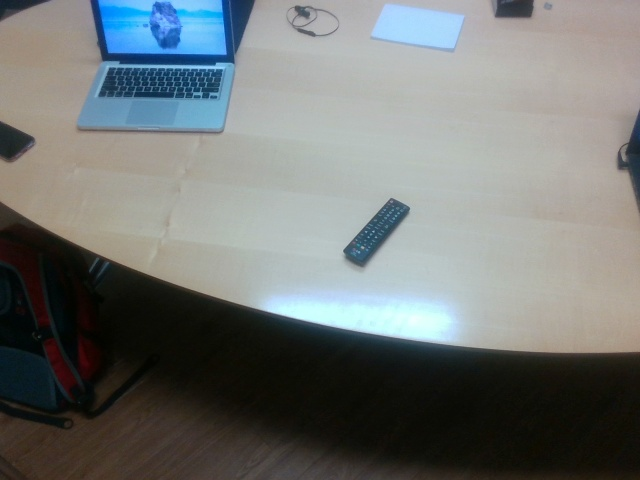remote: (341, 197, 412, 267)
